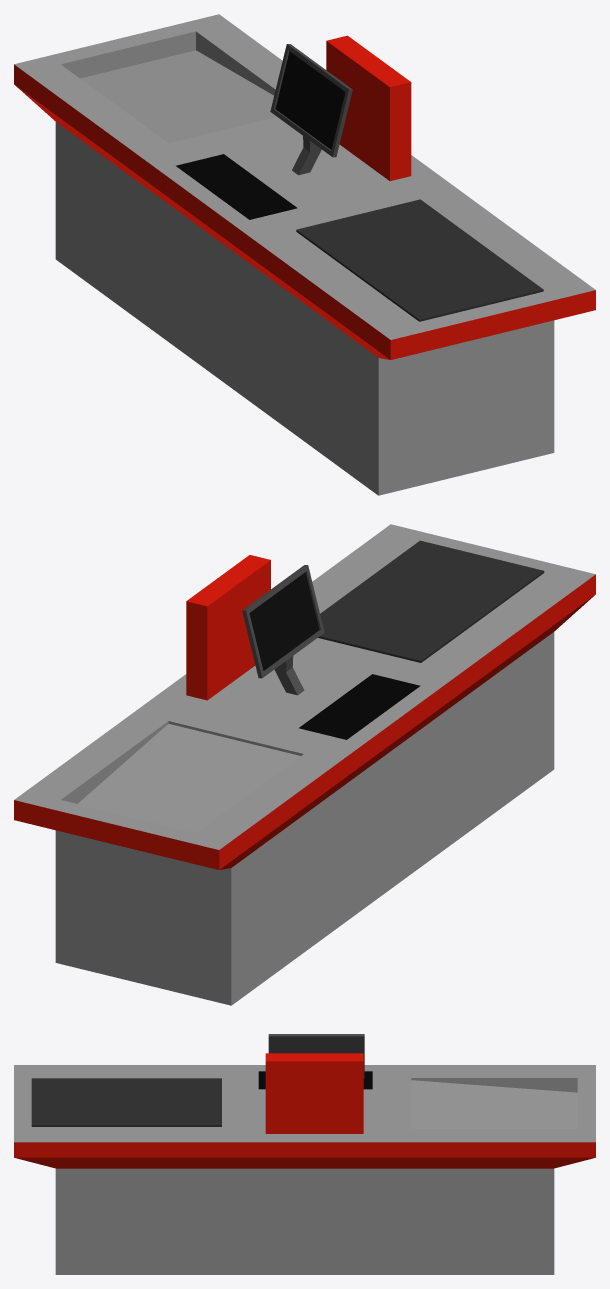
File: Касса2.fbx
3 renders of one model, top to bottom at view 1: azimuth 30°, elevation 25°; view 2: azimuth 150°, elevation 25°; view 3: azimuth 270°, elevation 25°, orthographic. The views are drawn at different scales.
Visible parts, largest first — view 1: Cube.033; view 2: Cube.033; view 3: Cube.033.
Boxes of the visible parts, x1,y1,x2,y2 form: Cube.033: (14, 14, 595, 495); Cube.033: (14, 524, 595, 1005); Cube.033: (14, 1034, 595, 1274).
Size of the model in its own units: 233 by 303 by 743.
